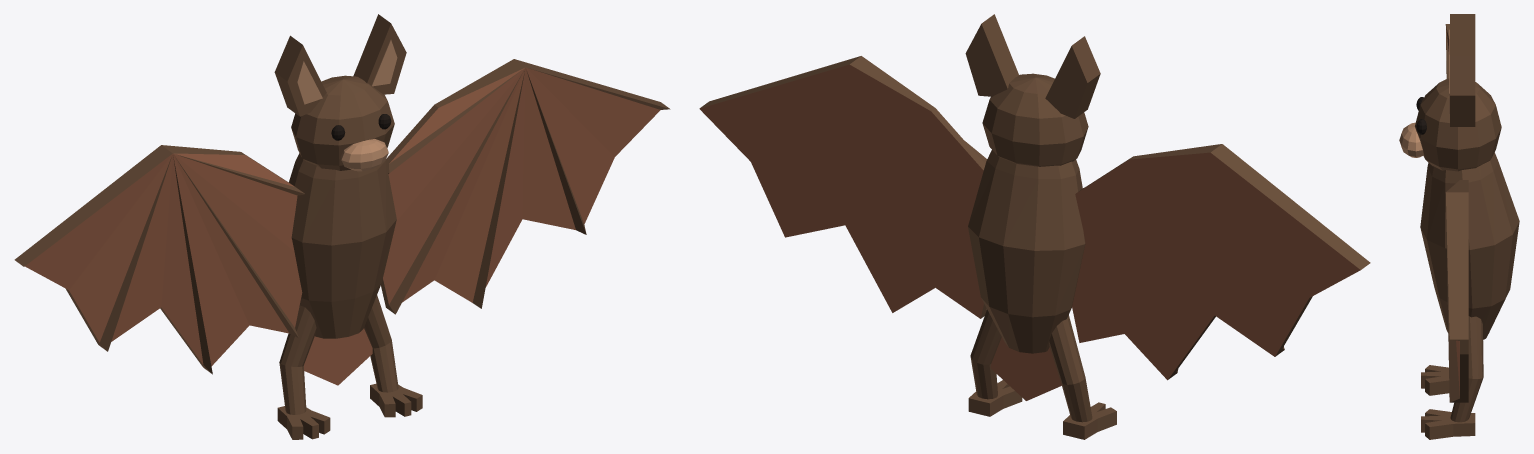
3 views of the same model, side by side, from view 1: azimuth 30°, elevation 25°; view 2: azimuth 150°, elevation 25°; view 3: azimuth 270°, elevation 25° (orthographic). The views are drawn at different scales.
Visible parts, largest first — view 1: LeftScallopedRidgeMembraneWing, RightScallopedRidgeMembraneWing, ShortTaperedBatTorso, RoundedShortBatHead, SmallInterlegTailMembrane, LeftBentHindLeg, RightPointedEar, LeftPointedEar, RightBentHindLeg, LeftSmallClawedGroundFoot, RightSmallClawedGroundFoot, ShortBroadMuzzle; view 2: LeftScallopedRidgeMembraneWing, RightScallopedRidgeMembraneWing, ShortTaperedBatTorso, RoundedShortBatHead, RightPointedEar, LeftPointedEar, SmallInterlegTailMembrane, LeftBentHindLeg, RightBentHindLeg, LeftSmallClawedGroundFoot, RightSmallClawedGroundFoot; view 3: ShortTaperedBatTorso, RoundedShortBatHead, RightScallopedRidgeMembraneWing, RightPointedEar, RightBentHindLeg, RightSmallClawedGroundFoot, LeftPointedEar, LeftSmallClawedGroundFoot, ShortBroadMuzzle, LeftScallopedRidgeMembraneWing, RightSmallDarkEye.
Boxes of the visible parts, box(x1,y1,x2,y2) form: LeftScallopedRidgeMembraneWing: box(14, 145, 304, 374); RightScallopedRidgeMembraneWing: box(381, 59, 670, 314); ShortTaperedBatTorso: box(289, 153, 396, 338); RoundedShortBatHead: box(291, 75, 394, 170); SmallInterlegTailMembrane: box(304, 328, 372, 385); LeftBentHindLeg: box(279, 305, 316, 414); RightPointedEar: box(353, 14, 406, 94); LeftPointedEar: box(274, 35, 326, 116); RightBentHindLeg: box(364, 295, 398, 392); LeftSmallClawedGroundFoot: box(277, 406, 330, 439); RightSmallClawedGroundFoot: box(370, 383, 422, 417); ShortBroadMuzzle: box(340, 139, 388, 171); LeftScallopedRidgeMembraneWing: box(1072, 144, 1370, 380); RightScallopedRidgeMembraneWing: box(699, 56, 987, 318); ShortTaperedBatTorso: box(968, 150, 1085, 353); RoundedShortBatHead: box(982, 73, 1088, 166); RightPointedEar: box(965, 14, 1019, 96); LeftPointedEar: box(1045, 36, 1100, 118); SmallInterlegTailMembrane: box(990, 337, 1061, 400); LeftBentHindLeg: box(1049, 315, 1092, 422); RightBentHindLeg: box(970, 309, 1001, 399); LeftSmallClawedGroundFoot: box(1063, 402, 1116, 439); RightSmallClawedGroundFoot: box(968, 380, 1022, 416); ShortTaperedBatTorso: box(1420, 152, 1519, 339); RoundedShortBatHead: box(1415, 78, 1501, 171); RightScallopedRidgeMembraneWing: box(1445, 180, 1468, 402); RightPointedEar: box(1450, 56, 1475, 126); RightBentHindLeg: box(1450, 316, 1483, 422); RightSmallClawedGroundFoot: box(1421, 409, 1475, 439); LeftPointedEar: box(1450, 14, 1475, 55); LeftSmallClawedGroundFoot: box(1421, 365, 1449, 395); ShortBroadMuzzle: box(1399, 122, 1423, 157); LeftScallopedRidgeMembraneWing: box(1445, 24, 1449, 78); RightSmallDarkEye: box(1416, 119, 1426, 134).
Bounding box in the file's own units: 1.54 × 0.87 × 0.2538.
